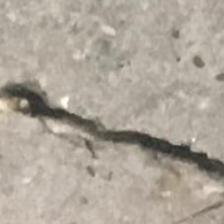Crack: (16, 93, 224, 186)
